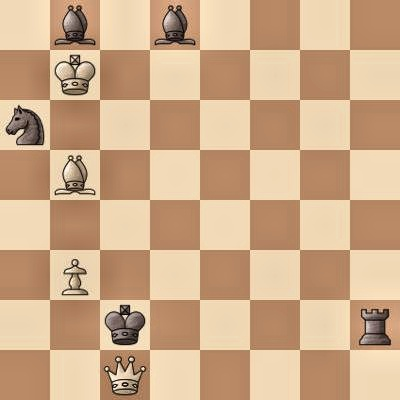black-bishop: (50, 0, 100, 50), (150, 0, 200, 50)
black-king: (100, 300, 150, 350)
black-knight: (0, 100, 50, 150)
black-rook: (350, 300, 400, 350)
white-bishop: (50, 150, 100, 200)
white-king: (50, 50, 100, 100)
white-pawn: (50, 250, 100, 300)
white-queen: (100, 350, 150, 400)
